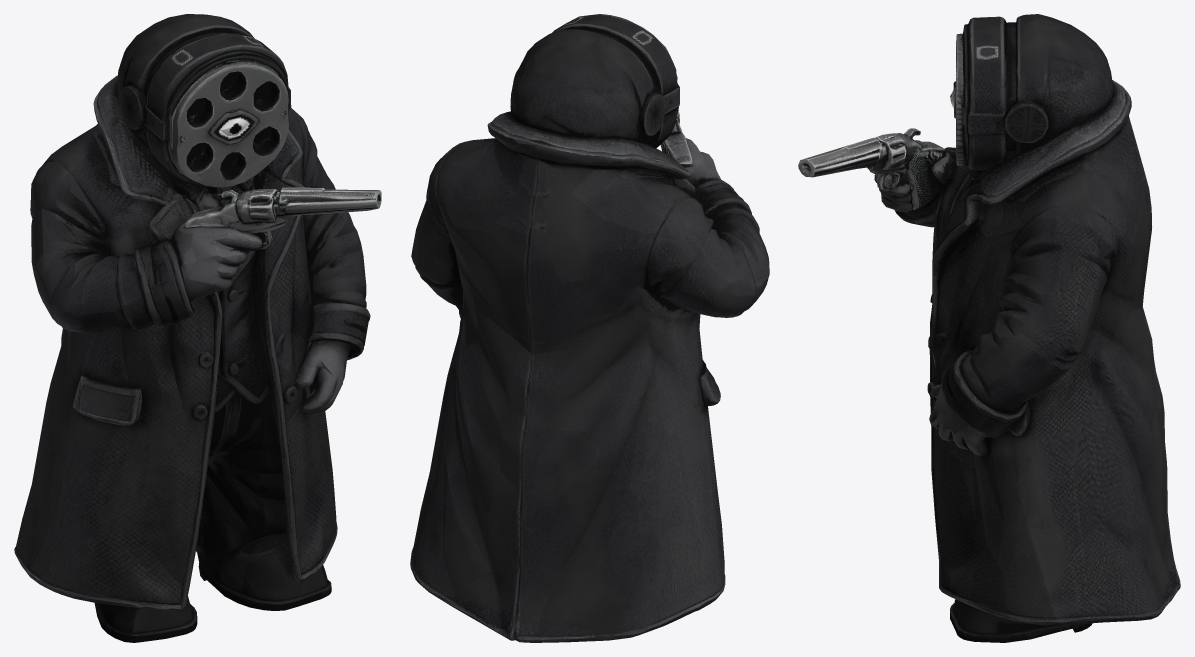
The model's file is character.glb.
The picture shows the model from 3 angles, left to right: view 1: azimuth 30°, elevation 25°; view 2: azimuth 150°, elevation 25°; view 3: azimuth 270°, elevation 25°; orthographic projection. The views are drawn at different scales.
Bounding box in the file's own units: 1.11 × 1.9 × 1.15.
Materials: 1 (1 with a texture image).
